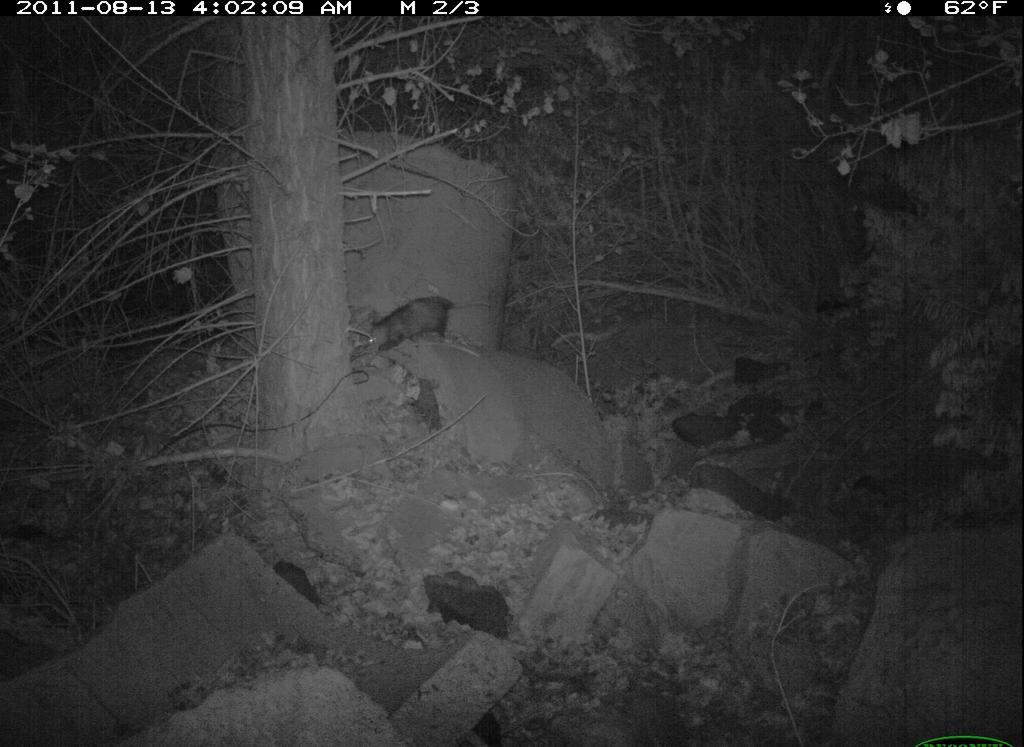opossum: (363, 294, 497, 355)
